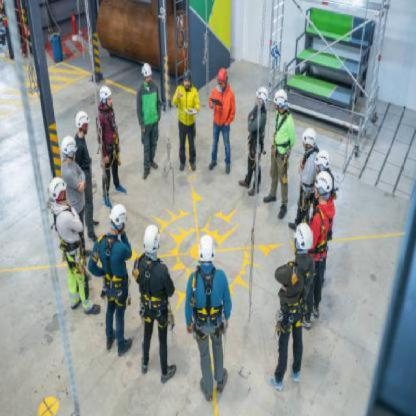person: (180, 222, 237, 412), (129, 219, 182, 389), (43, 171, 102, 320), (264, 221, 313, 397), (86, 197, 135, 362), (90, 80, 132, 208), (128, 56, 166, 185), (202, 58, 237, 186), (237, 74, 271, 204), (268, 82, 297, 219), (170, 65, 202, 178), (54, 131, 86, 204), (74, 110, 94, 180)
white-helm: (139, 223, 164, 259), (290, 221, 316, 254), (197, 227, 219, 266), (104, 200, 128, 235), (311, 170, 335, 199), (45, 176, 68, 206), (58, 132, 79, 160), (96, 84, 115, 102), (138, 59, 155, 79)
